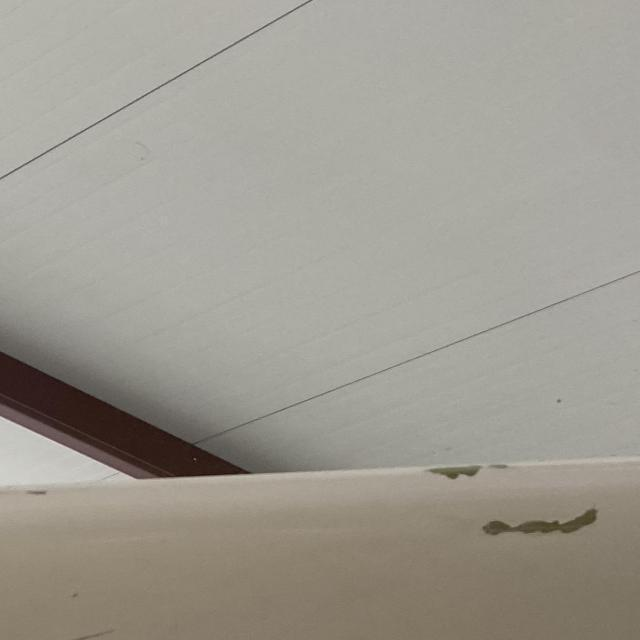Paint-off: (483, 506, 601, 535), (429, 462, 485, 477), (21, 483, 57, 495), (491, 462, 509, 467)
